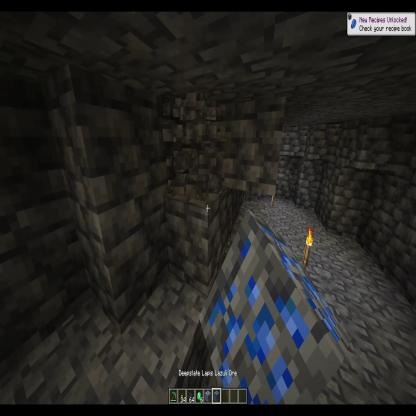lapis ore: (190, 210, 348, 412)
